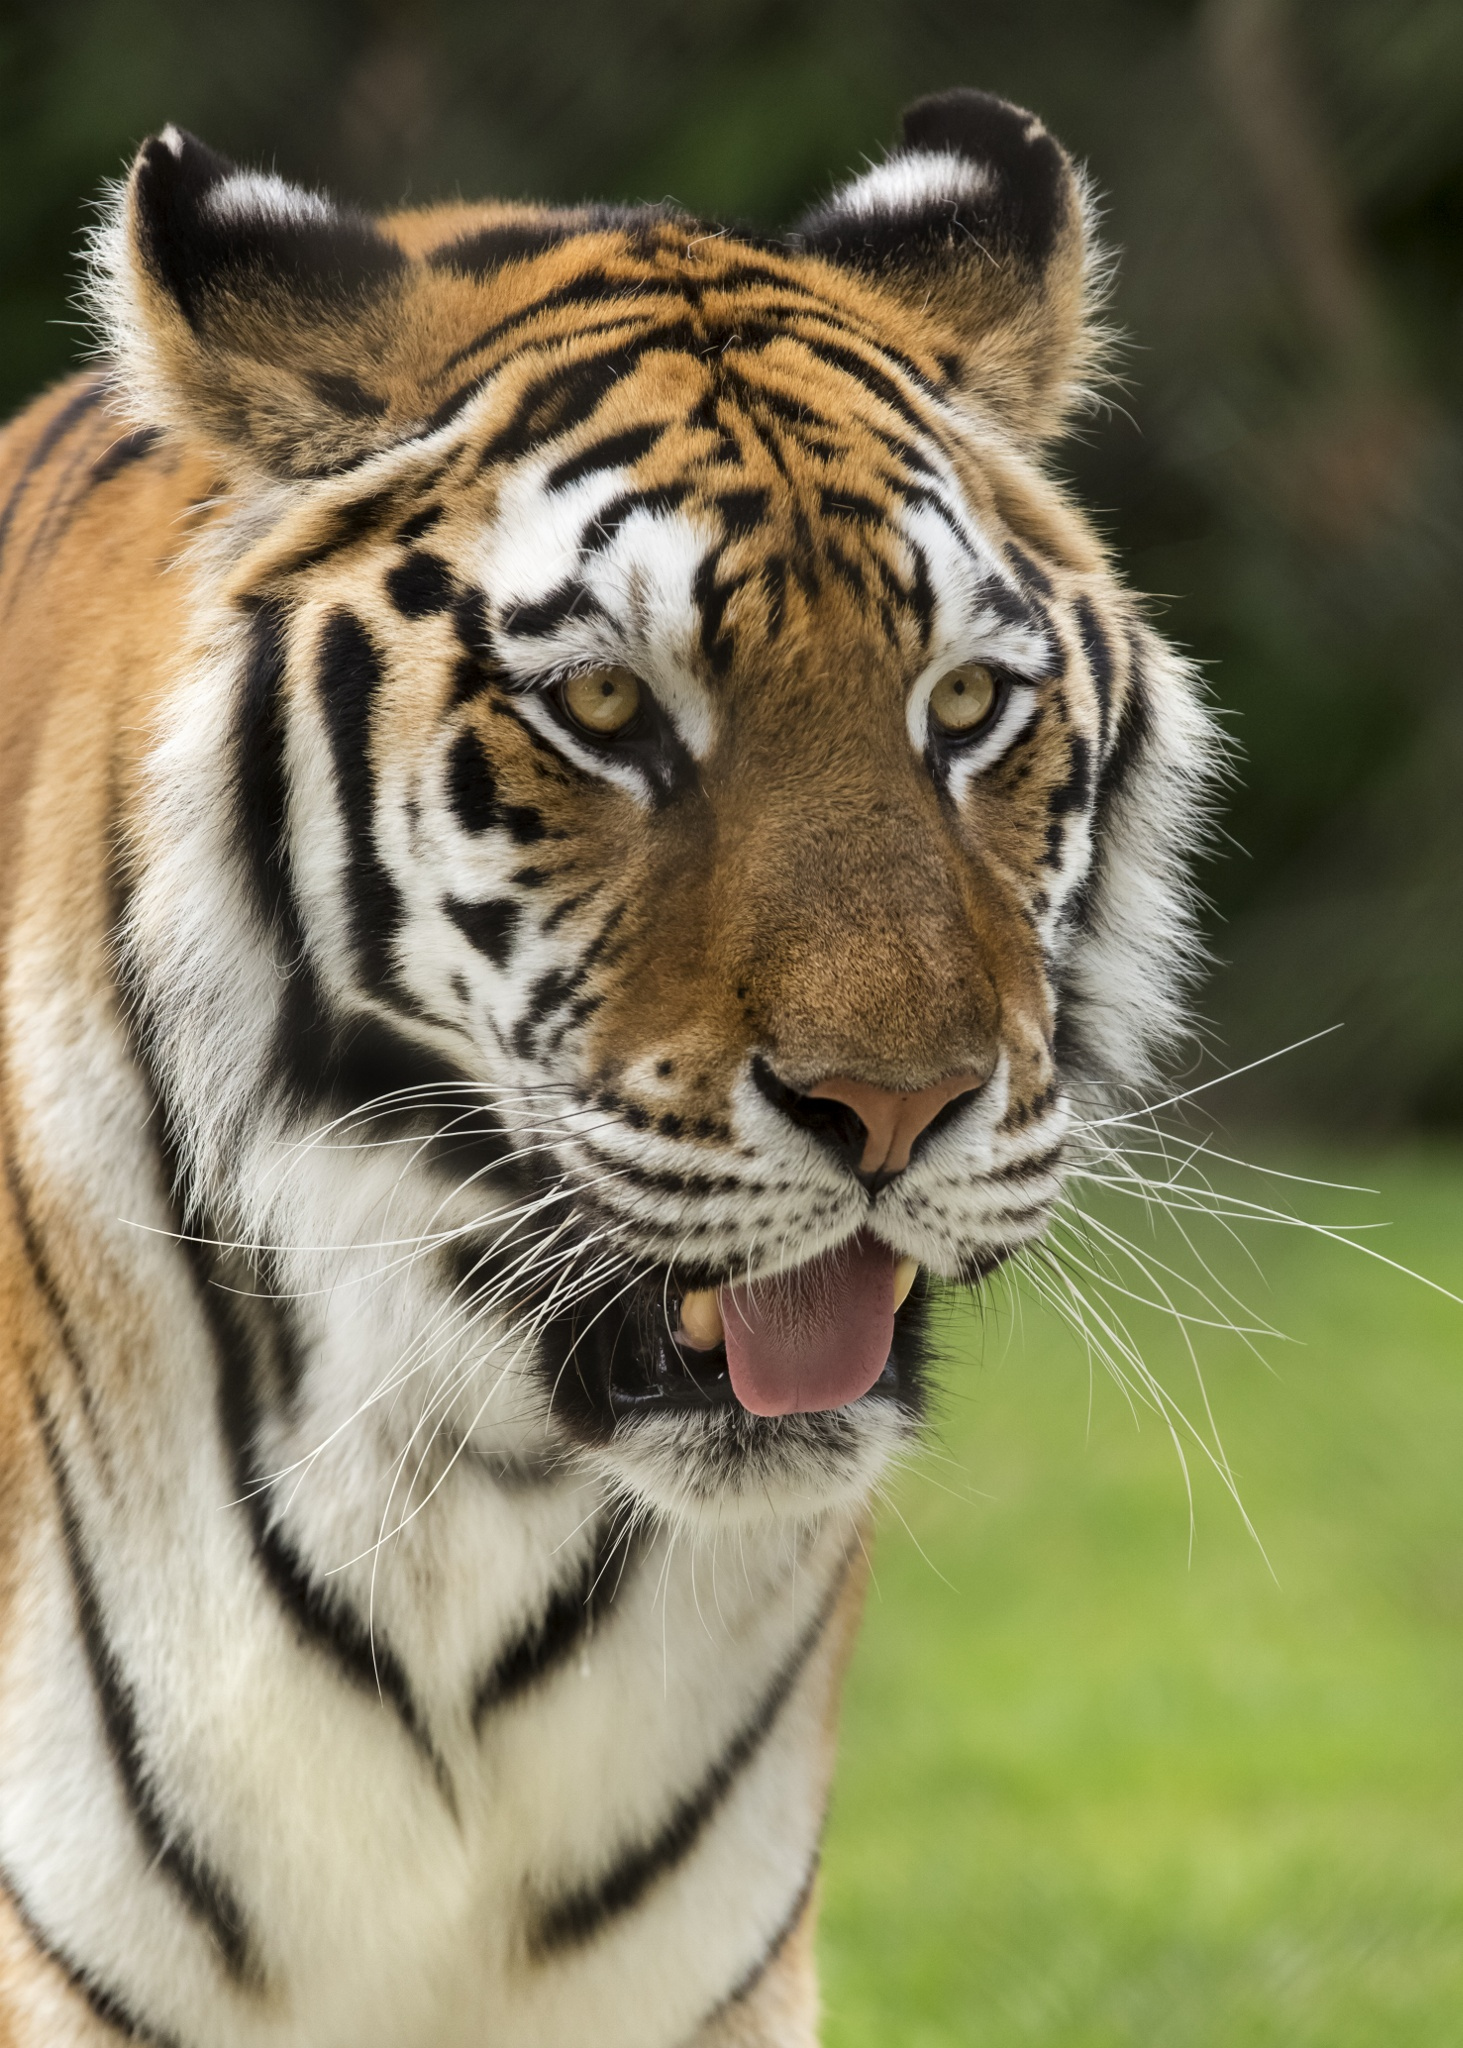tiger: (60, 93, 1232, 1948)
